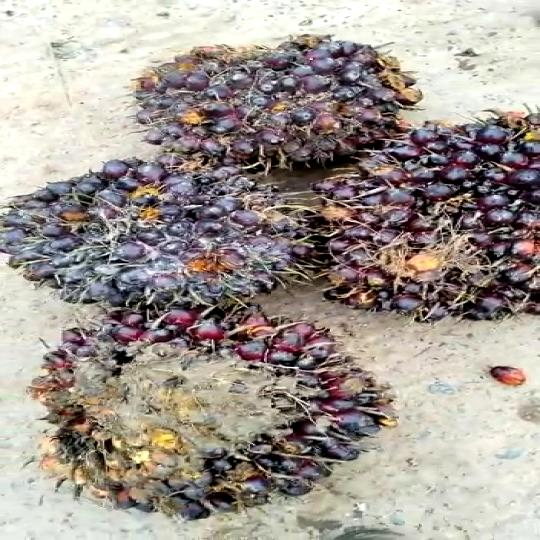kurang masak: (42, 320, 390, 522), (1, 149, 307, 315), (304, 111, 540, 319), (133, 33, 414, 172)
